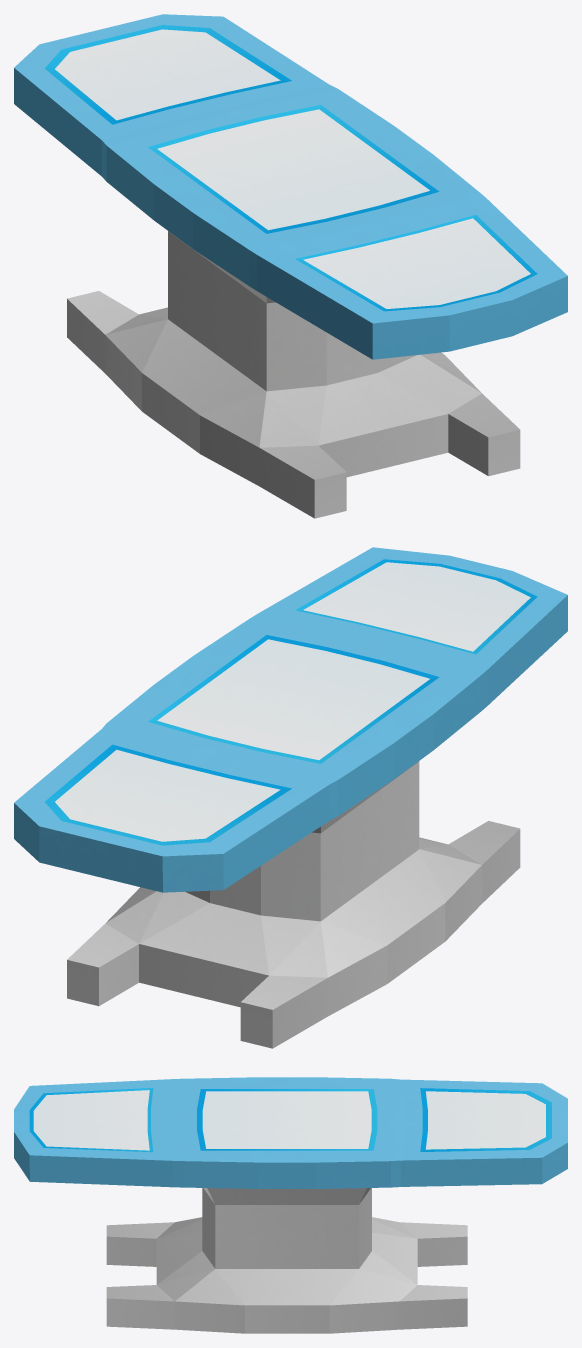
File: bed_2.dae
3 views of the same model, one above another, from view 1: azimuth 30°, elevation 25°; view 2: azimuth 150°, elevation 25°; view 3: azimuth 270°, elevation 25° (orthographic). The views are drawn at different scales.
Parts seen in each view (by area): view 1: bed_2; view 2: bed_2; view 3: bed_2.
Boxes of the visible parts, x1=… form: bed_2: x1=14, y1=14, x2=567, y2=518; bed_2: x1=14, y1=547, x2=567, y2=1048; bed_2: x1=14, y1=1077, x2=567, y2=1333.
Bounding box in the file's own units: 0.5363 × 1.44 × 0.4877.
